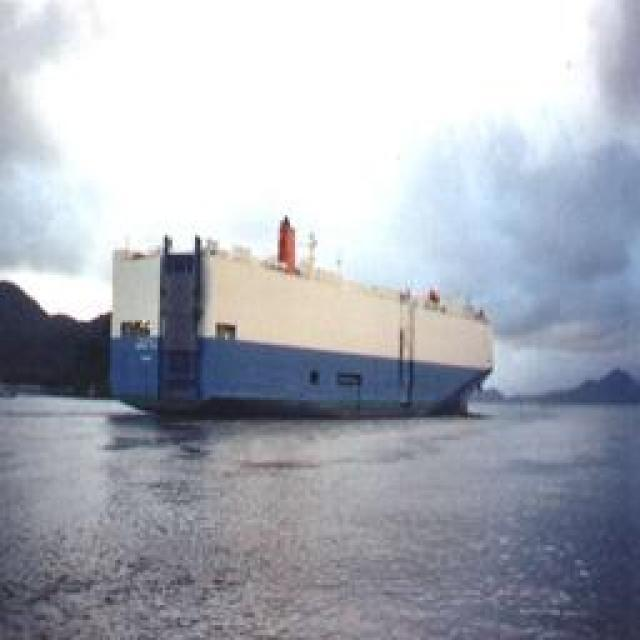CIV_Ship: (110, 228, 492, 420)
